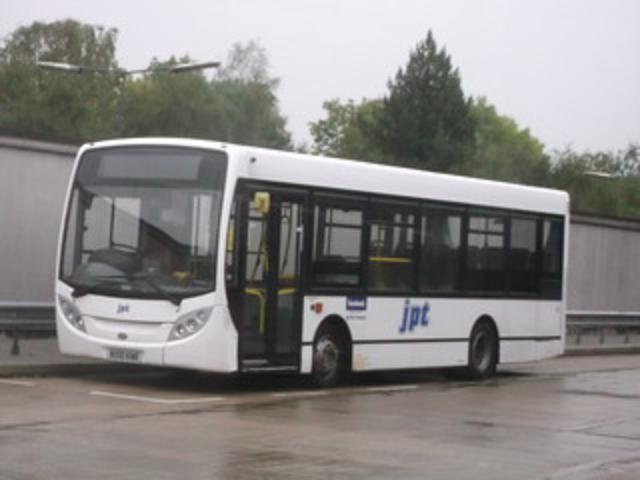bus: (54, 138, 570, 388)
